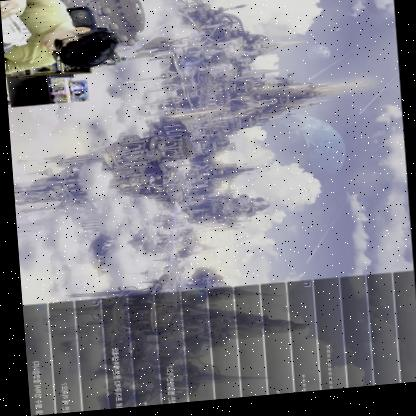streamer: (0, 0, 120, 74)
